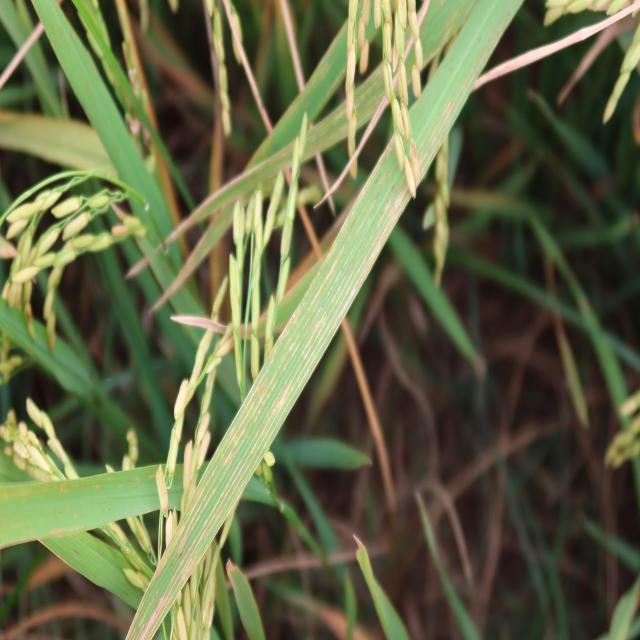Dom soc vi khuan: (150, 483, 206, 584), (308, 241, 347, 307), (174, 495, 207, 559), (139, 593, 166, 640), (326, 251, 352, 299), (252, 370, 277, 416), (249, 358, 274, 404), (223, 427, 246, 470), (368, 224, 389, 265), (337, 286, 356, 319), (392, 185, 407, 218), (275, 385, 289, 410), (317, 315, 330, 339), (180, 556, 192, 580), (303, 344, 312, 361), (289, 340, 298, 352)
